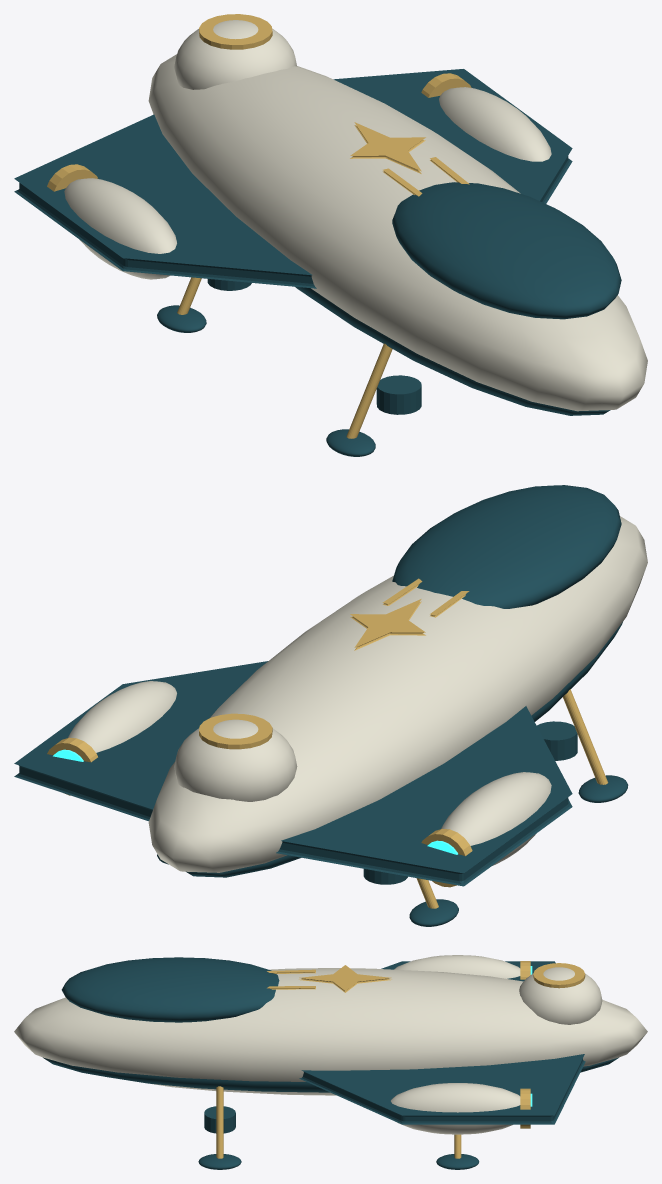
Rendered from Neris-Orbital-1.glb.
3 views of the same model, one above another, from view 1: azimuth 30°, elevation 25°; view 2: azimuth 150°, elevation 25°; view 3: azimuth 270°, elevation 25° (orthographic). The views are drawn at different scales.
Visible parts, largest first — view 1: Neris Ceramic, Neris Thermal Teal, Neris Gold; view 2: Neris Ceramic, Neris Thermal Teal, Neris Gold; view 3: Neris Ceramic, Neris Thermal Teal, Neris Gold.
Part boxes in pixels (bbox=[...]): Neris Ceramic: bbox=[64, 20, 647, 411]; Neris Thermal Teal: bbox=[14, 69, 621, 456]; Neris Gold: bbox=[47, 14, 471, 438]; Neris Ceramic: bbox=[68, 516, 647, 872]; Neris Thermal Teal: bbox=[14, 485, 628, 926]; Neris Gold: bbox=[47, 578, 608, 908]; Neris Ceramic: bbox=[14, 955, 647, 1134]; Neris Thermal Teal: bbox=[43, 957, 618, 1169]; Neris Gold: bbox=[216, 961, 585, 1158].
Bounding box in the file's own units: 25.32 × 11.6 × 44.
